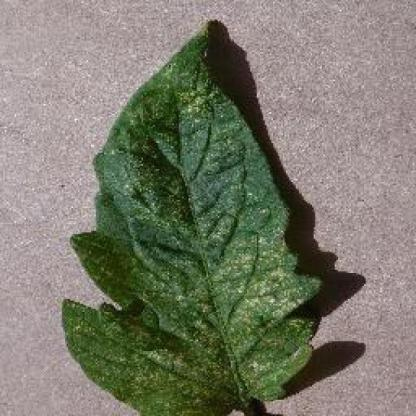Tomato_Spider_Mites: (61, 27, 322, 414)
